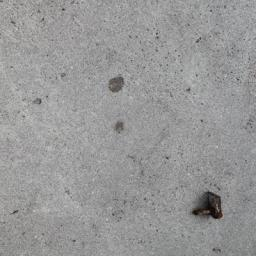FOD: (189, 188, 227, 226)
